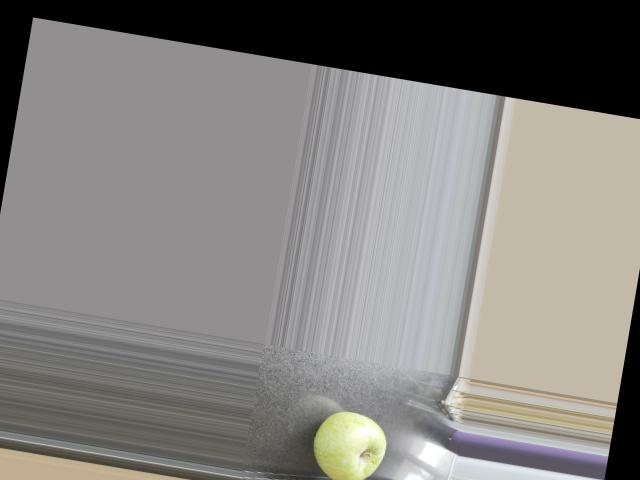apple: (303, 402, 395, 480)
